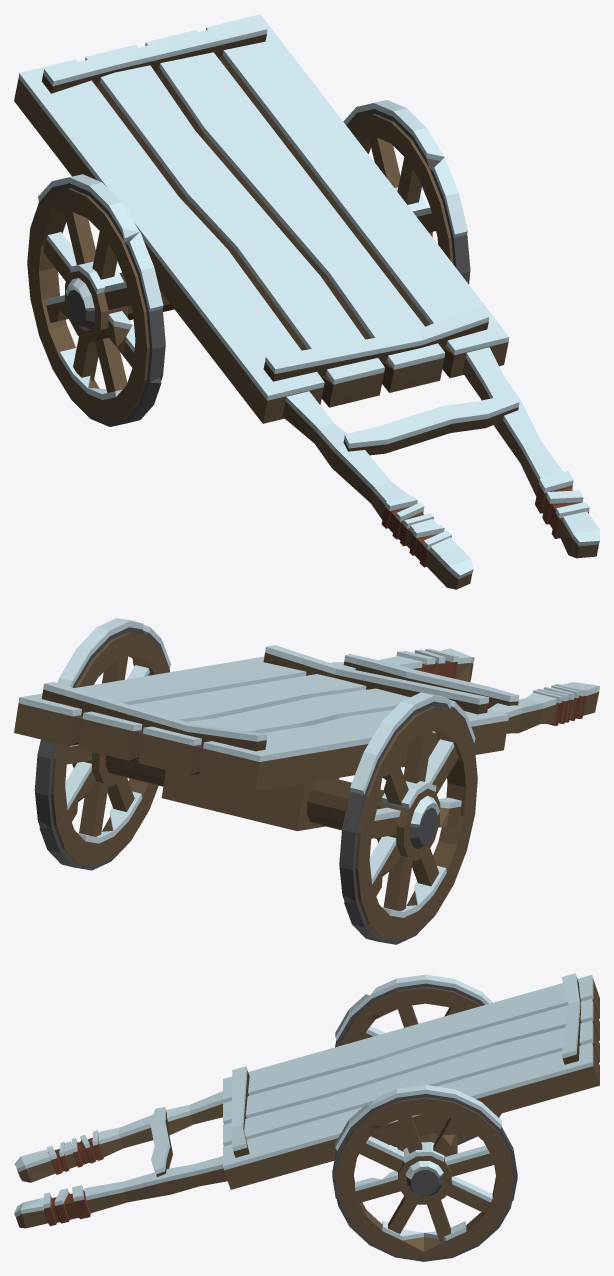
File: Carretilla01.glb
The picture shows the model from 3 angles, top to bottom: view 1: azimuth 30°, elevation 25°; view 2: azimuth 150°, elevation 25°; view 3: azimuth 270°, elevation 25°; orthographic projection. The views are drawn at different scales.
Visible parts, largest first — view 1: SM_Prop_Wagon_01_Snow; view 2: SM_Prop_Wagon_01_Snow; view 3: SM_Prop_Wagon_01_Snow.
Part boxes in pixels (x1,y1,x2,y2): SM_Prop_Wagon_01_Snow: [14, 14, 599, 589]; SM_Prop_Wagon_01_Snow: [14, 618, 599, 944]; SM_Prop_Wagon_01_Snow: [14, 973, 599, 1261].
Bounding box in the file's own units: 1.53 × 1.1 × 3.03.
Materials: 1 (1 with a texture image).
